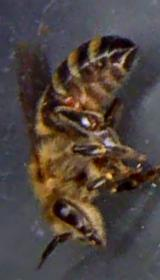varroa_mite: (61, 90, 80, 108)
